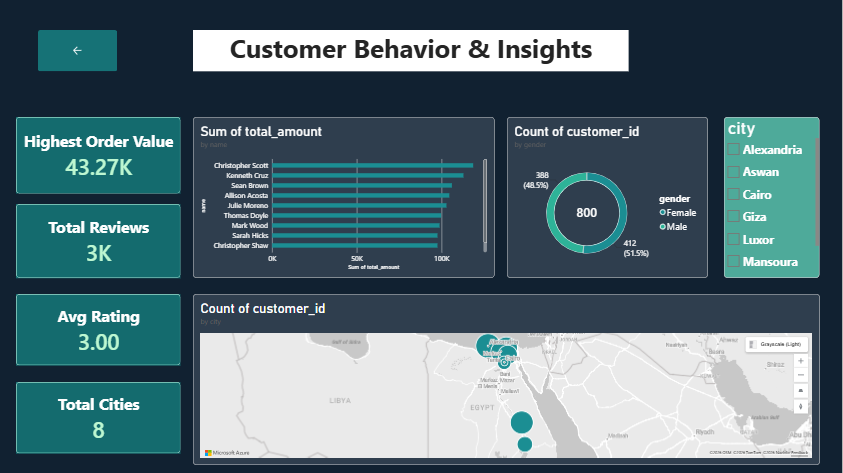

This screenshot's page, from the dashboard's own definition file:
{"tool":"powerbi","page":{"name":"Customer Insights","canvas":[1920,1080],"ordinal":2},"visuals":[{"type":"textbox","box":[442.9,71.4,991.4,94.3],"z":0},{"type":"cardVisual","fields":{"Data":["orders_clean.Highest Order Value"]},"box":[40,268.6,374.3,174.3],"z":1000},{"type":"cardVisual","fields":{"Data":["reviews_clean.Avg Rating"]},"box":[40,671.4,374.3,162.9],"z":2000},{"type":"cardVisual","fields":{"Data":["reviews_clean.Total Reviews"]},"box":[40,465.7,374.3,168.6],"z":3000},{"type":"cardVisual","fields":{"Data":["customers_clean.Total Cities"]},"box":[40,871.4,374.3,162.9],"z":4000},{"type":"actionButton","box":[91.4,71.4,180,94.3],"z":5000},{"type":"clusteredBarChart","fields":{"Category":["customers_clean.name"],"Y":["Sum(orders_clean.total_amount)"]},"box":[442.9,268.6,685.7,365.7],"z":6000},{"type":"azureMap","fields":{"Category":["customers_clean.city"],"Size":["CountNonNull(customers_clean.customer_id)"]},"box":[442.9,671.4,1425.7,388.6],"z":7000},{"type":"donutChart","fields":{"Category":["customers_clean.gender"],"Y":["CountNonNull(customers_clean.customer_id)"]},"box":[1157.1,268.6,457.1,365.7],"z":8000},{"type":"slicer","fields":{"Values":["customers_clean.city"]},"box":[1651.4,268.6,217.1,365.7],"z":9000}]}

Visuals, with their boxes in screenshot pixels (x1, y1, x2, y2), scaled from the page's 1920x1080 canvas onto the 843x473 screenshot:
textbox: BBox(194, 31, 630, 73)
cardVisual - orders_clean.Highest Order Value: BBox(18, 118, 182, 194)
cardVisual - reviews_clean.Avg Rating: BBox(18, 294, 182, 365)
cardVisual - reviews_clean.Total Reviews: BBox(18, 204, 182, 278)
cardVisual - customers_clean.Total Cities: BBox(18, 382, 182, 453)
actionButton: BBox(40, 31, 119, 73)
clusteredBarChart - customers_clean.name x Sum(orders_clean.total_amount): BBox(194, 118, 496, 278)
azureMap - customers_clean.city x CountNonNull(customers_clean.customer_id): BBox(194, 294, 820, 464)
donutChart - customers_clean.gender x CountNonNull(customers_clean.customer_id): BBox(508, 118, 709, 278)
slicer - customers_clean.city: BBox(725, 118, 820, 278)
